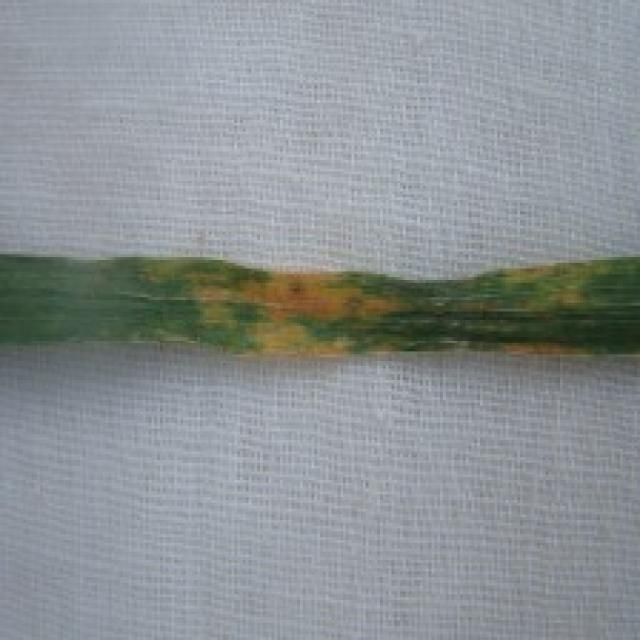Bacterial_Blight: (176, 238, 403, 388), (497, 248, 612, 312), (488, 328, 606, 368)
